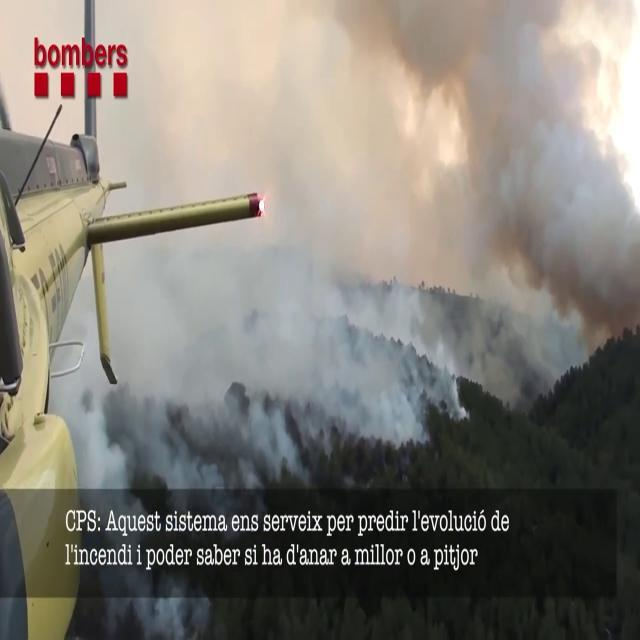Smoke: (97, 0, 640, 481)
